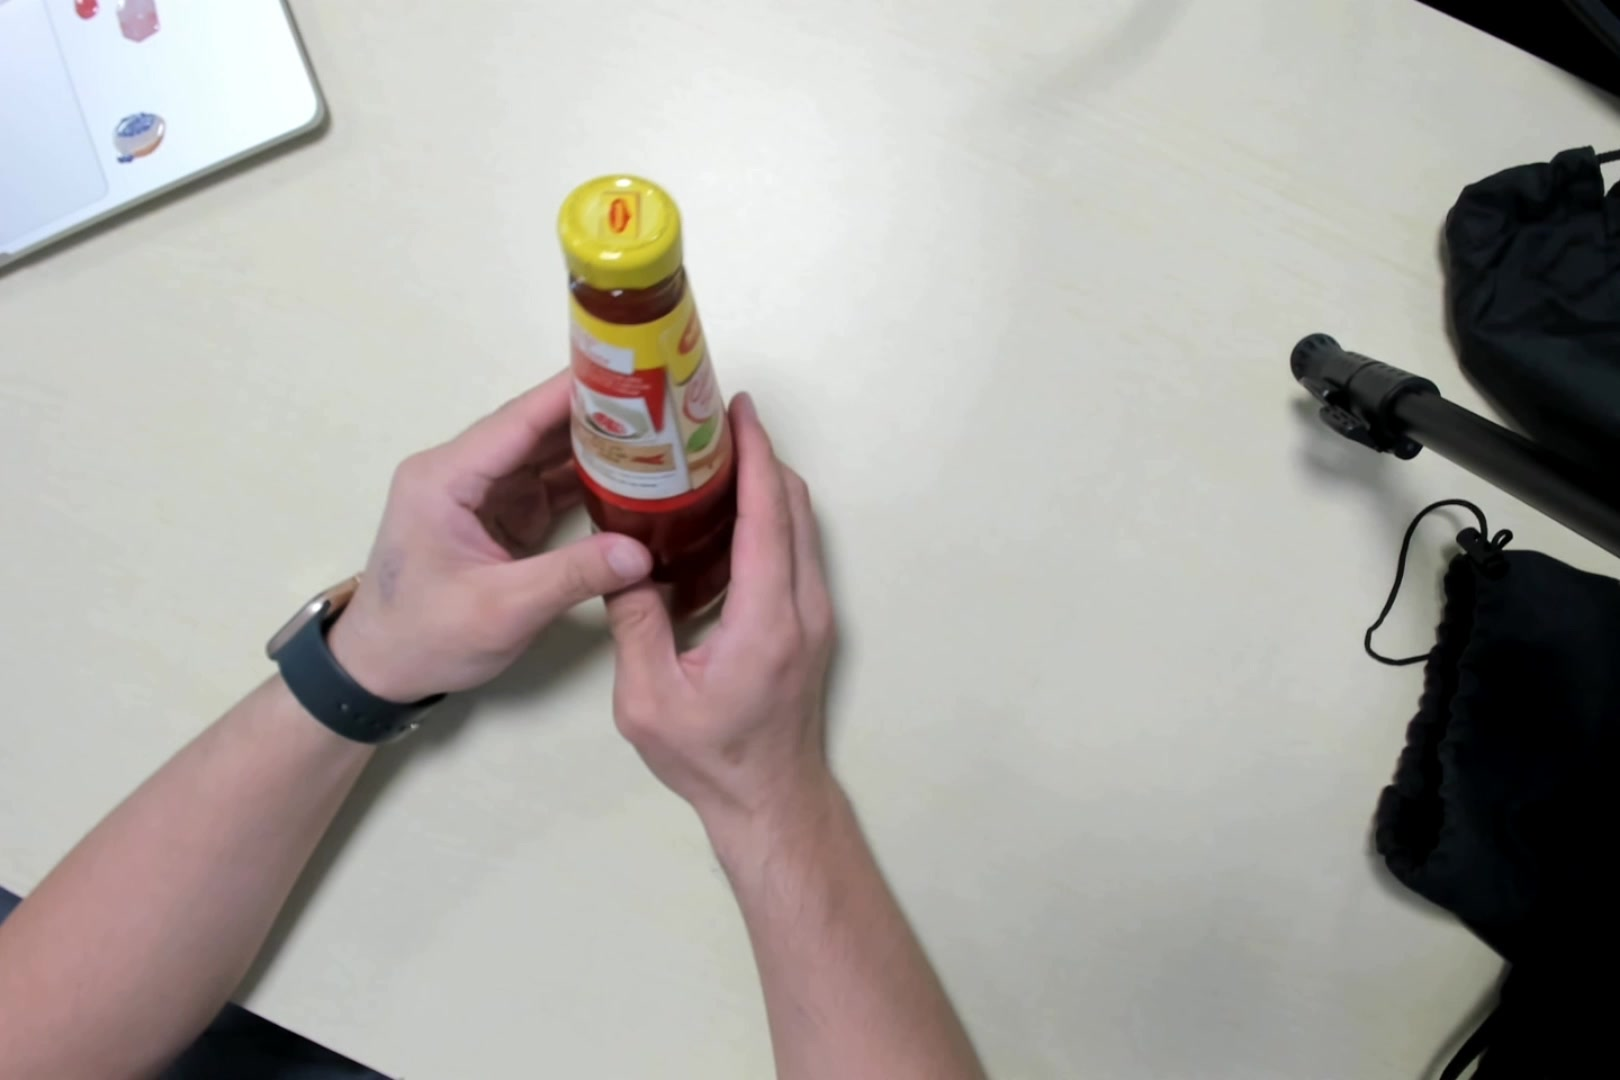KetchupChillSauce_300-399g_Halal_NonHealthy: (551, 168, 738, 627)
